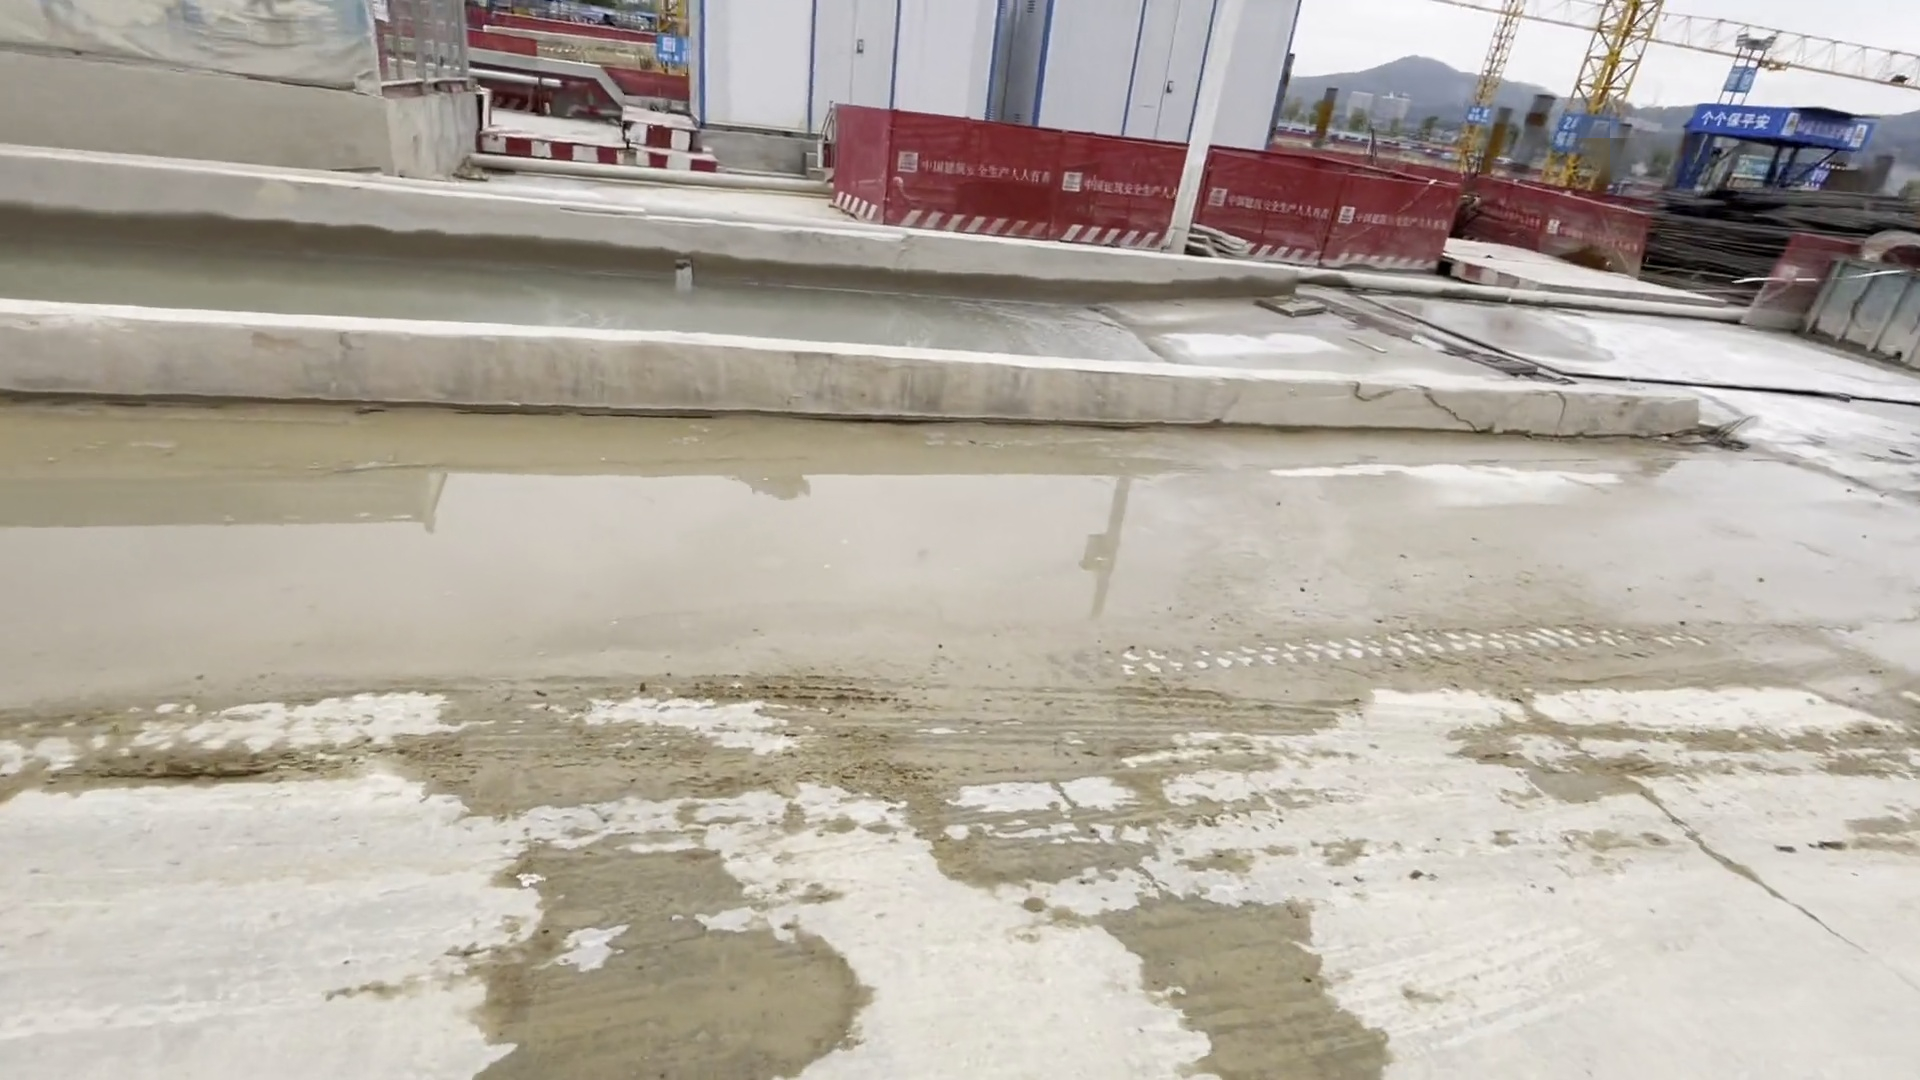fence: (836, 102, 1445, 281)
slogan: (1688, 99, 1871, 157)
